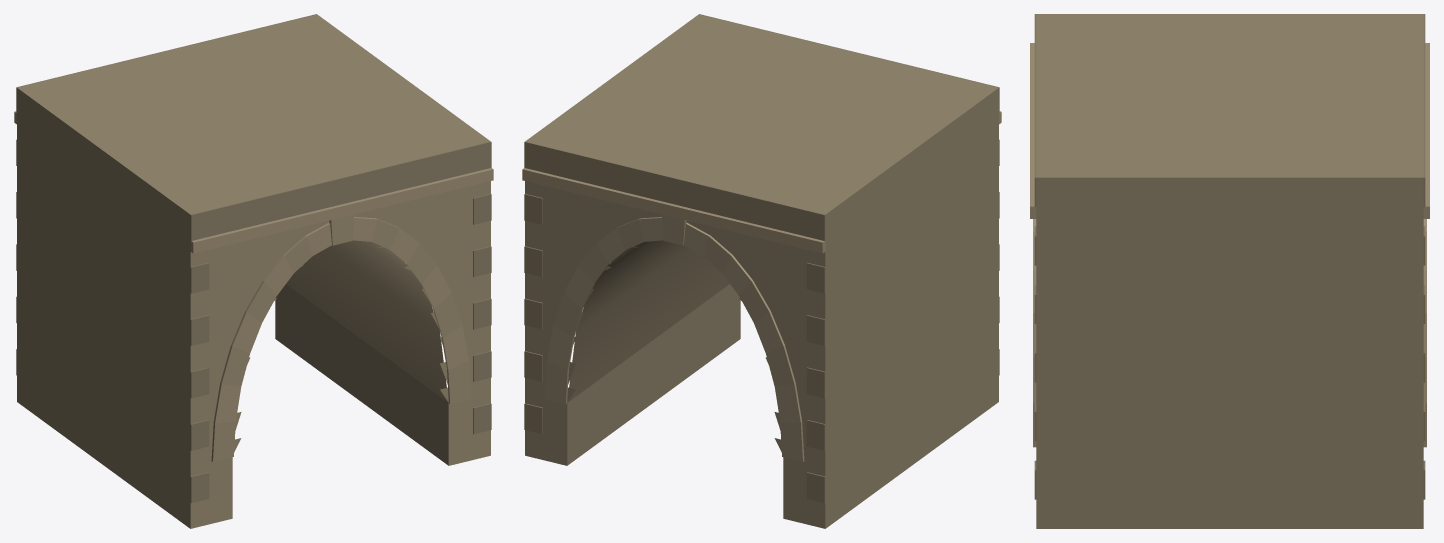
Rendered from SM_Prop_bridge_arch_1.glb.
3 views of the same model, side by side, from view 1: azimuth 30°, elevation 25°; view 2: azimuth 150°, elevation 25°; view 3: azimuth 270°, elevation 25° (orthographic). The views are drawn at different scales.
Visible parts, largest first — view 1: SM_Prop_bridge_arch_1; view 2: SM_Prop_bridge_arch_1; view 3: SM_Prop_bridge_arch_1.
Part boxes in pixels (<box>): SM_Prop_bridge_arch_1: <box>14,14,493,528</box>; SM_Prop_bridge_arch_1: <box>522,14,1001,528</box>; SM_Prop_bridge_arch_1: <box>1030,14,1429,528</box>.
Bounding box in the file's own units: 1 × 1 × 1.03.
